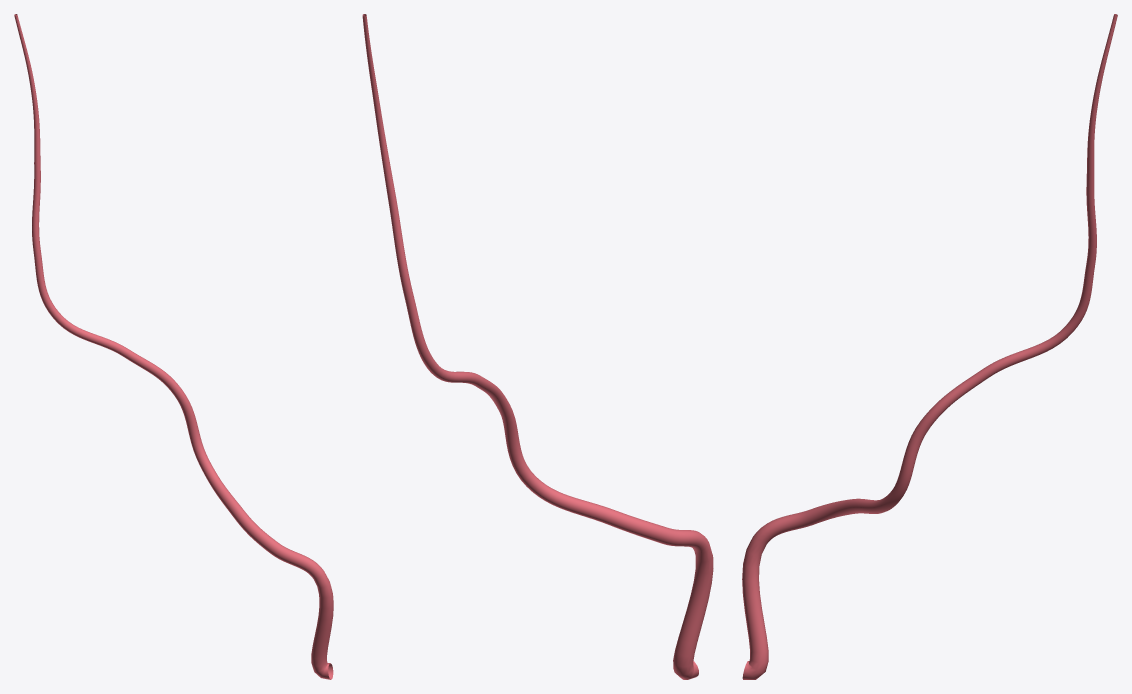
The picture shows the model from 3 angles, left to right: view 1: azimuth 90°, elevation 25°; view 2: azimuth 150°, elevation 25°; view 3: azimuth 270°, elevation 25°; orthographic projection. The views are drawn at different scales.
Visible parts, largest first — view 1: ZA_318a3d450c23855a; view 2: ZA_318a3d450c23855a; view 3: ZA_318a3d450c23855a.
Part boxes in pixels (x1,y1,x2,y2): ZA_318a3d450c23855a: (14,14,333,679); ZA_318a3d450c23855a: (362,14,713,679); ZA_318a3d450c23855a: (742,14,1117,679).
Size of the model in its own units: 0.0169 by 0.0802 by 0.0378.
